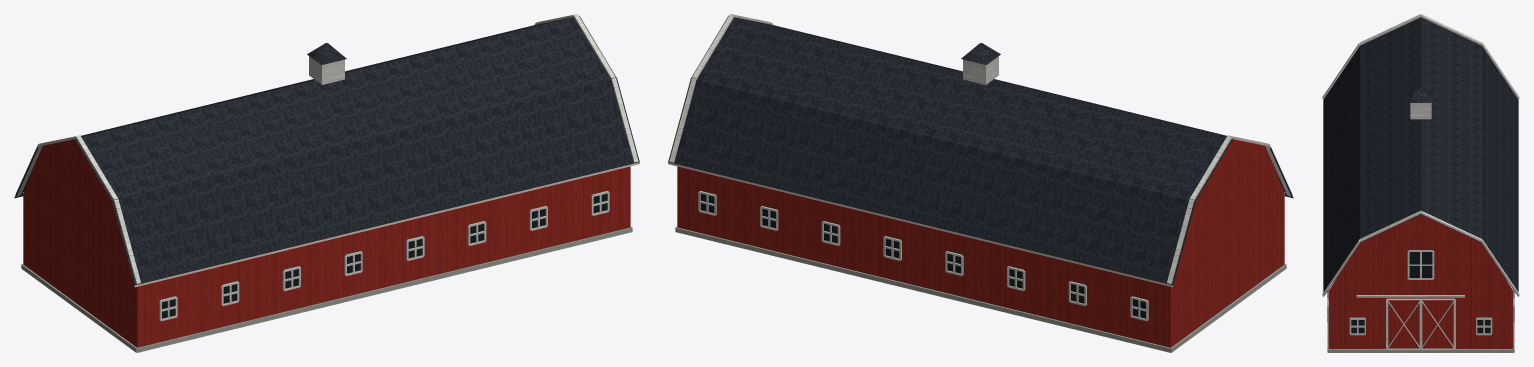
File: barn-a.glb
3 renders of one model, left to right at view 1: azimuth 30°, elevation 25°; view 2: azimuth 150°, elevation 25°; view 3: azimuth 270°, elevation 25°, orthographic. The views are drawn at different scales.
Visible parts, largest first — view 1: barn-a2; view 2: barn-a2; view 3: barn-a2.
Boxes of the visible parts, x1,y1,x2,y2 form: barn-a2: (14, 14, 639, 352); barn-a2: (668, 14, 1293, 352); barn-a2: (1322, 14, 1519, 352).
Bounding box in the file's own units: 10.23 × 4.02 × 4.27.
5 materials, 4 textured.
